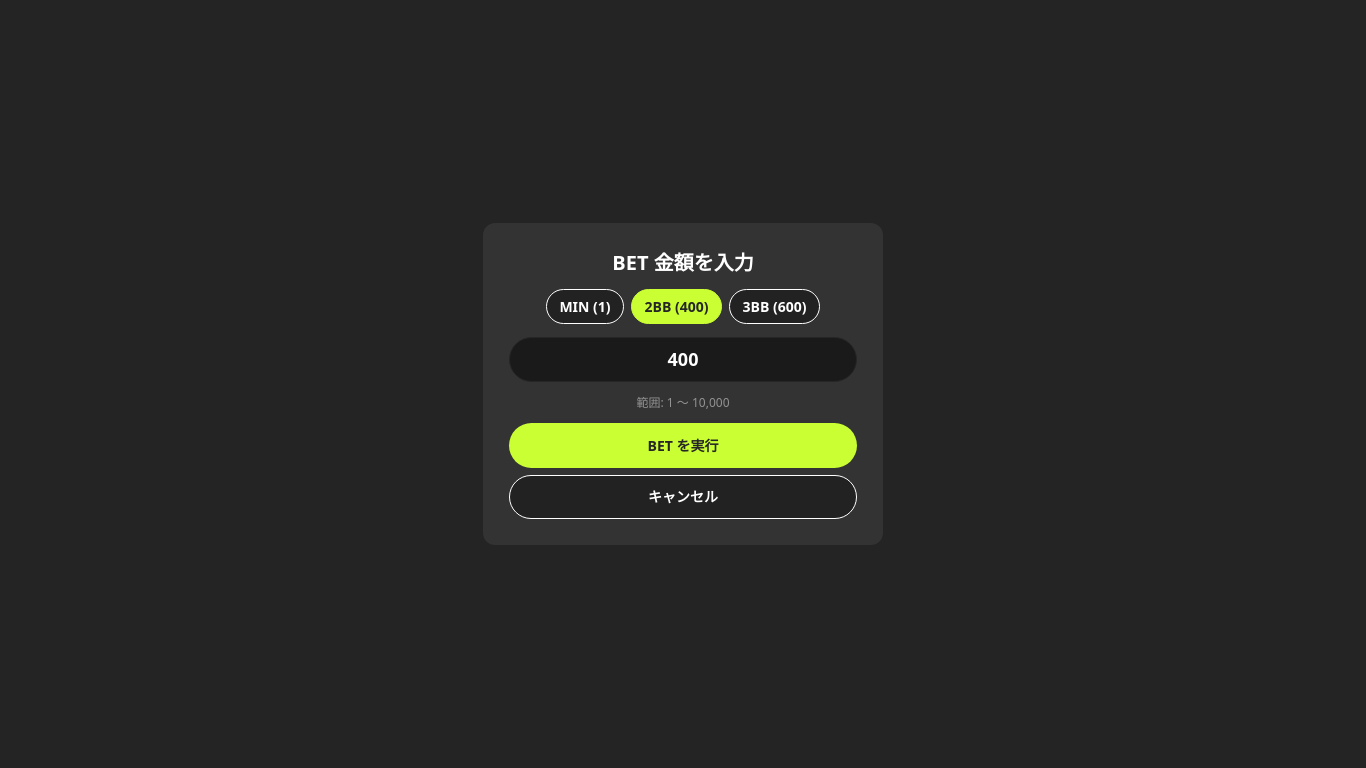
Test: BetAmountModal › 3BB ボタンクリックで input の値が 3 * bigBlind に更新される
Click the button "3BB (600)" at (775, 307), box 729,289 -> 820,324
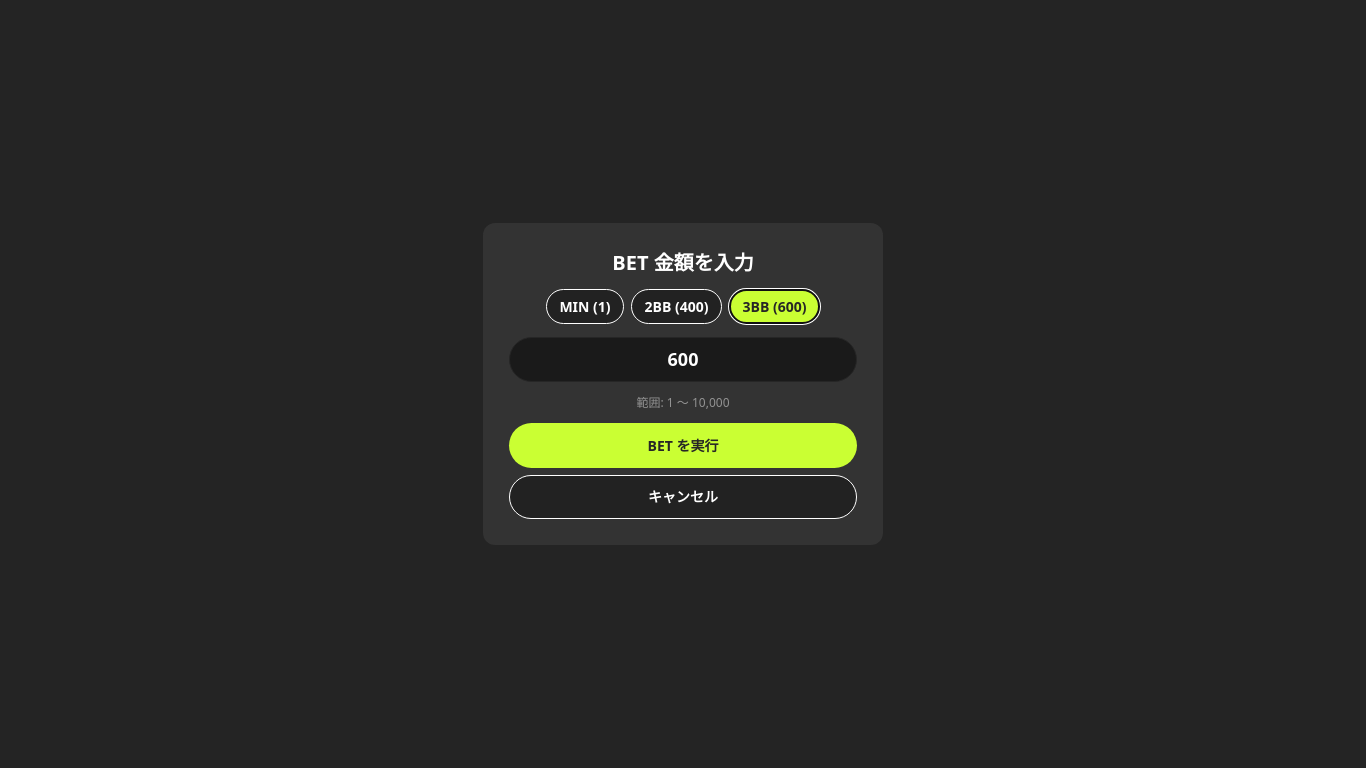
Expected: the number field holds "600", 509,337 -> 857,382
